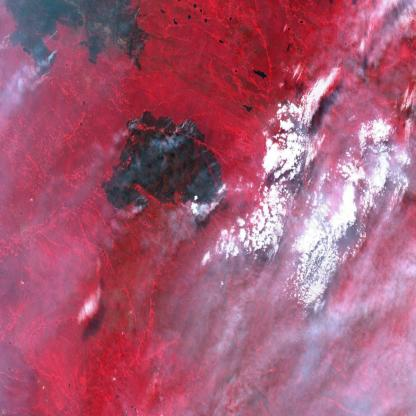fire: (117, 108, 231, 218), (34, 26, 60, 86), (128, 2, 151, 53)
